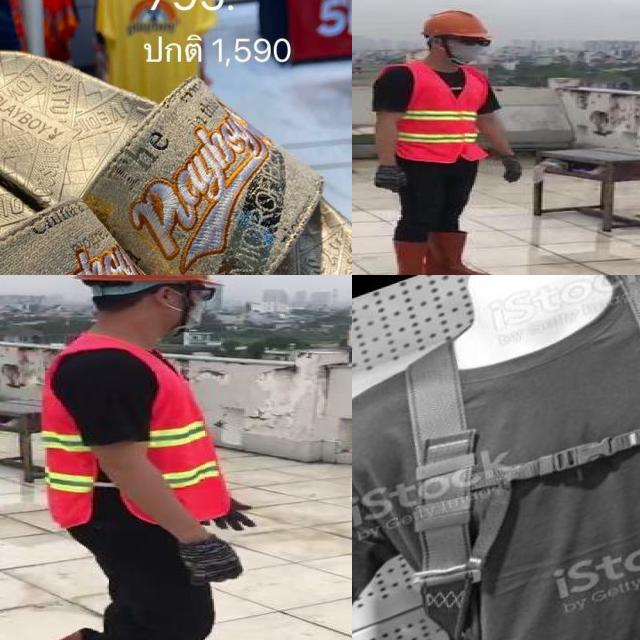Harness: (401, 341, 511, 640)
Sandals: (0, 31, 352, 275)
boots: (168, 538, 246, 585), (424, 230, 495, 275), (392, 240, 447, 275)
face_mask: (442, 35, 492, 65)
glasses: (454, 34, 492, 49)
hand_glove: (374, 168, 410, 196), (499, 157, 527, 186)
head_helmet: (69, 275, 213, 290), (416, 10, 491, 38)
person: (0, 275, 260, 640), (363, 4, 525, 275)
vest: (43, 331, 230, 525), (383, 62, 490, 164)
